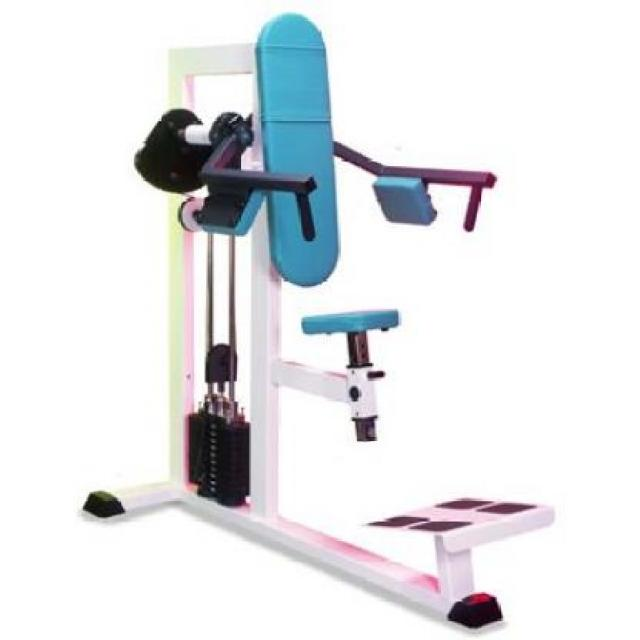lateral raises machine: (80, 12, 558, 636)
